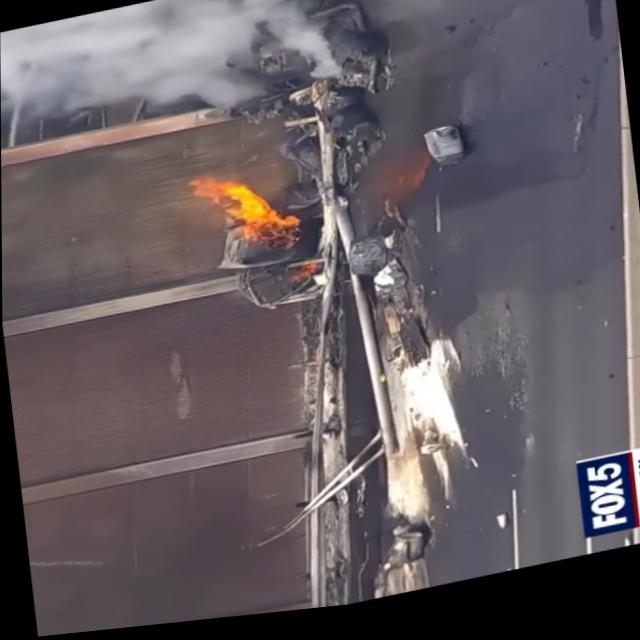Fire: (190, 162, 298, 259)
